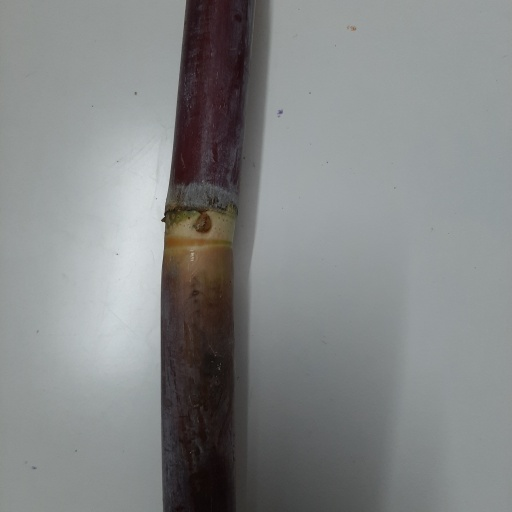Bud: (191, 212, 212, 235)
